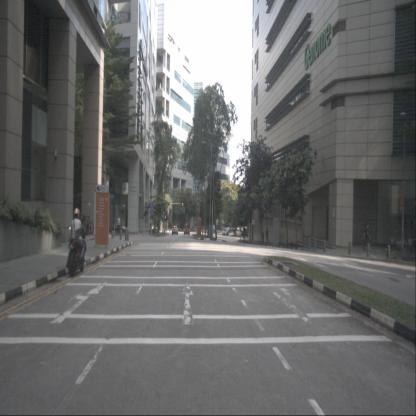human-pedestrian-adult: (363, 221, 371, 252), (361, 225, 370, 250), (403, 224, 409, 248), (116, 214, 121, 236), (392, 224, 396, 250), (266, 227, 268, 244)
vehicle-bicycle: (78, 215, 94, 234)
vehicle-car: (184, 224, 190, 235), (222, 228, 229, 236), (172, 226, 178, 235)
vehicle-motorcycle: (66, 208, 88, 277)
